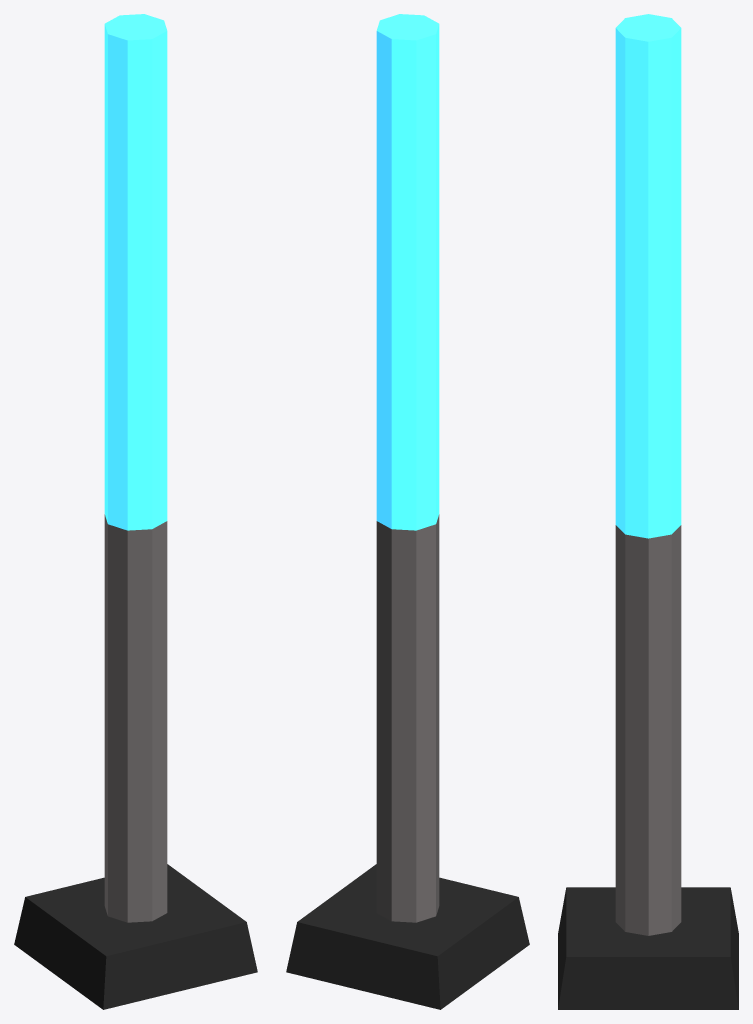
File: scifi_scifi-lamp-small.fbx
The picture shows the model from 3 angles, left to right: view 1: azimuth 30°, elevation 25°; view 2: azimuth 150°, elevation 25°; view 3: azimuth 270°, elevation 25°; orthographic projection.
Visible parts, largest first — view 1: scifi_scifi_lamp_small; view 2: scifi_scifi_lamp_small; view 3: scifi_scifi_lamp_small.
Part boxes in pixels (<box>): scifi_scifi_lamp_small: <box>14,14,257,1009</box>; scifi_scifi_lamp_small: <box>286,14,529,1009</box>; scifi_scifi_lamp_small: <box>558,14,738,1009</box>.
Size of the model in its own units: 34.74 by 200 by 34.74.
